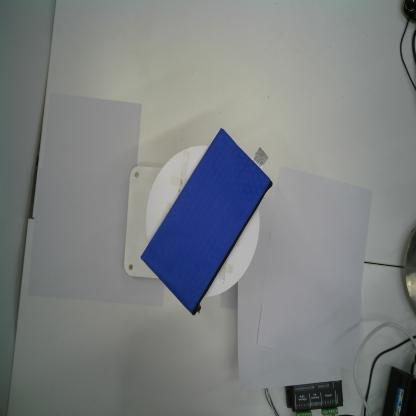Stationery: (140, 126, 273, 315)
